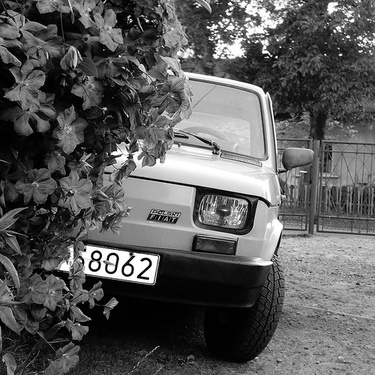car: (33, 39, 317, 367)
